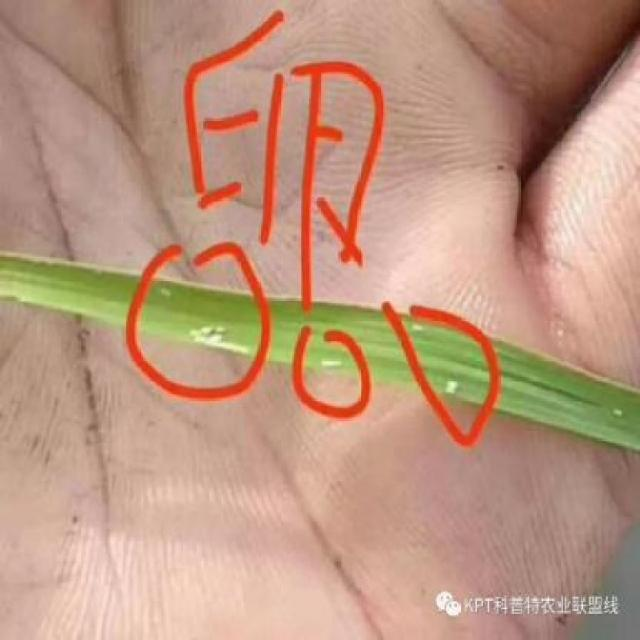whorl-maggot: (440, 375, 462, 400), (320, 354, 345, 372), (412, 318, 428, 336), (200, 324, 217, 338), (214, 322, 229, 336)
